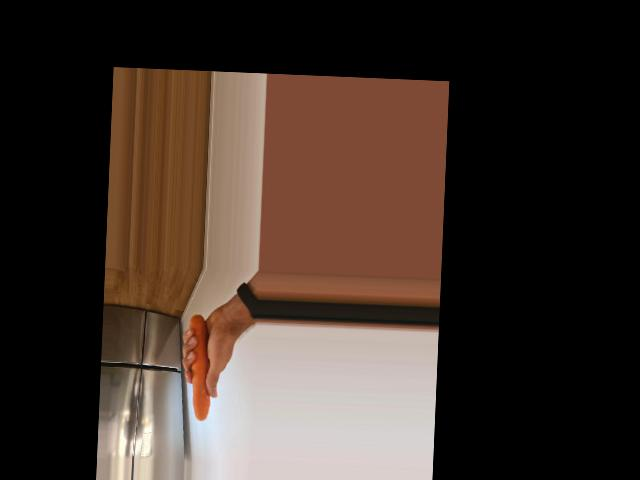carrot: (186, 312, 213, 420)
